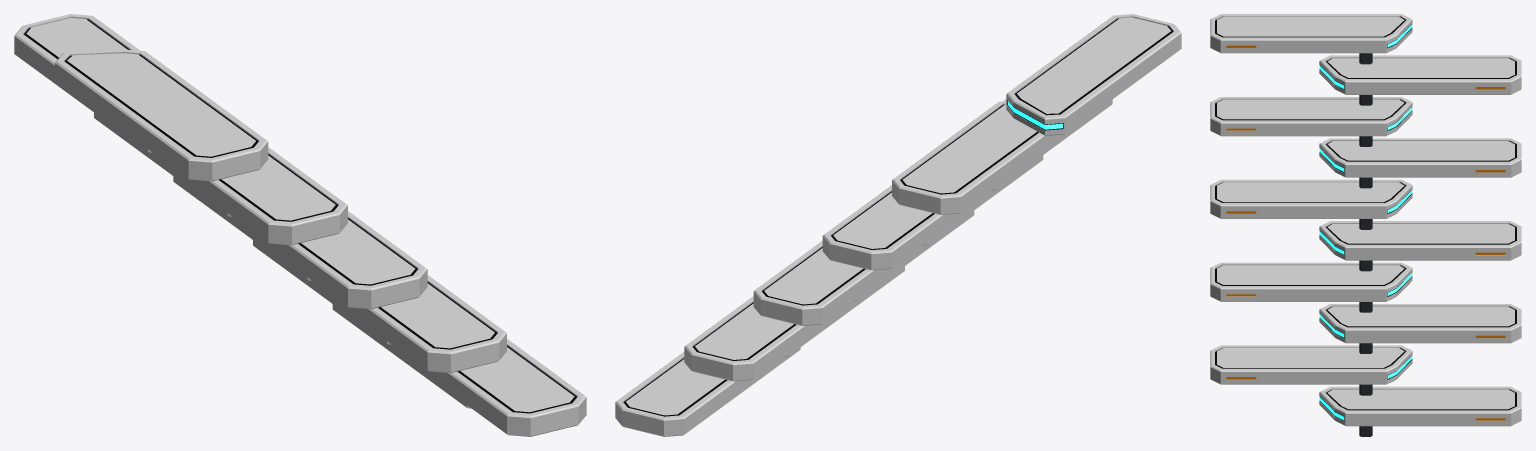
Rendered from SM_StairModule_Short.glb.
3 renders of one model, left to right at view 1: azimuth 30°, elevation 25°; view 2: azimuth 150°, elevation 25°; view 3: azimuth 270°, elevation 25°, orthographic. The views are drawn at different scales.
Parts seen in each view (by area): view 1: SM_StairModule_Short; view 2: SM_StairModule_Short; view 3: SM_StairModule_Short.
Boxes of the visible parts, x1=… form: SM_StairModule_Short: x1=14, y1=14, x2=586, y2=436; SM_StairModule_Short: x1=615, y1=14, x2=1181, y2=436; SM_StairModule_Short: x1=1210, y1=14, x2=1521, y2=436.
Size of the model in its own units: 4 by 3.64 by 3.64.
